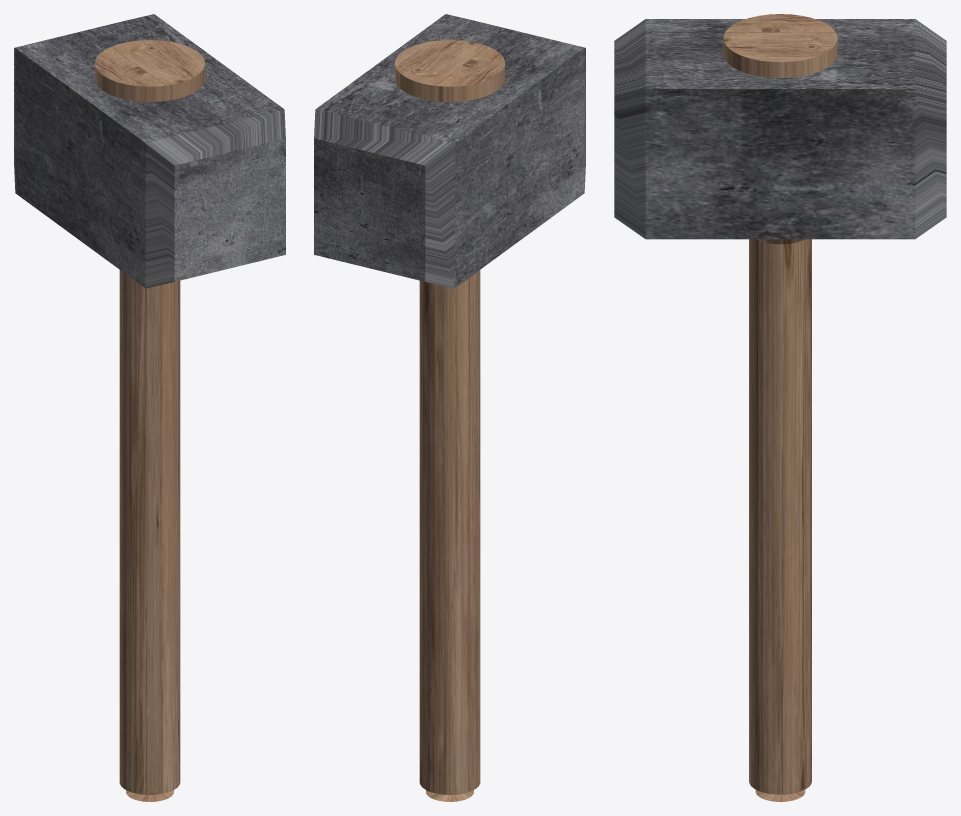
The model's file is hammer.glb.
The picture shows the model from 3 angles, left to right: view 1: azimuth 30°, elevation 25°; view 2: azimuth 150°, elevation 25°; view 3: azimuth 270°, elevation 25°; orthographic projection. The views are drawn at different scales.
Visible parts, largest first — view 1: Cube.002, Cylinder.001; view 2: Cube.002, Cylinder.001; view 3: Cube.002, Cylinder.001.
Part boxes in pixels (x1,y1,x2,y2): Cube.002: (14,14,285,288); Cylinder.001: (95,40,204,801); Cube.002: (314,14,585,288); Cylinder.001: (395,40,504,801); Cube.002: (614,19,946,239); Cylinder.001: (723,14,837,801).
Bounding box in the file's own units: 3.53 × 17.87 × 7.09.
2 materials, 2 textured.
